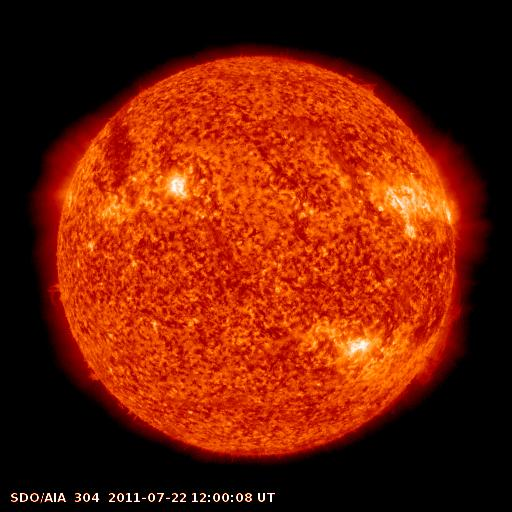prominence: (411, 275, 467, 391), (36, 274, 80, 314), (342, 66, 382, 97)
